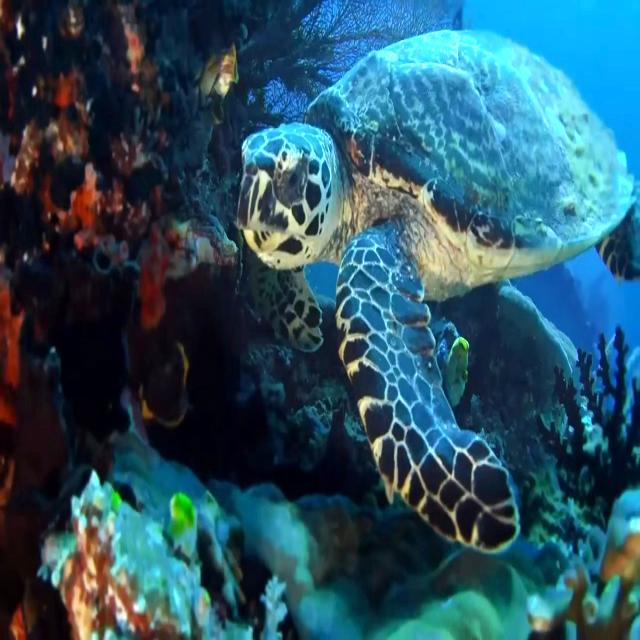Sea turtle: (237, 29, 640, 548)
